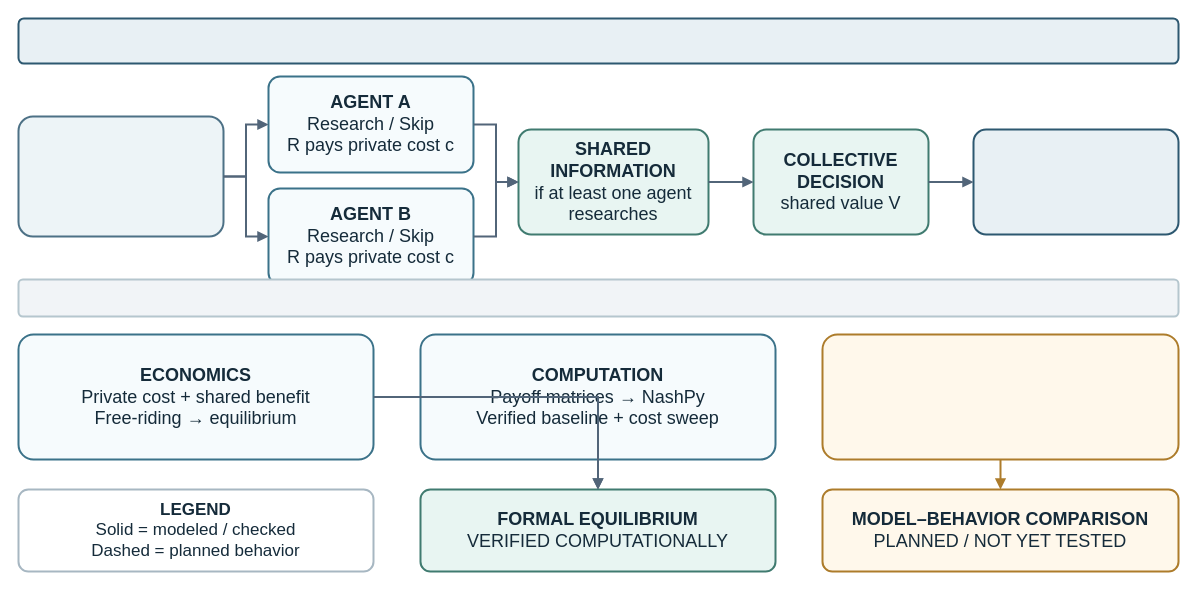
Some shapes in this 1196 by 589 pixel diagram are drawn without their labels. The shapes that lost their labels are listed below. From the top down, each one's centre as x and y in pixels, then its label:
point 598,40: WHO PAYS TO KNOW? | Costly information before a collective decision
point 120,176: MODEL INPUTS Private research cost c Collective information value V
point 1075,181: STRATEGIC OUTCOME Free-riding incentives Nash equilibrium
point 598,297: THREE INTERDISCIPLINARY LENSES
point 1000,396: BEHAVIOR Beliefs + bounded reasoning Planned behavioral test
